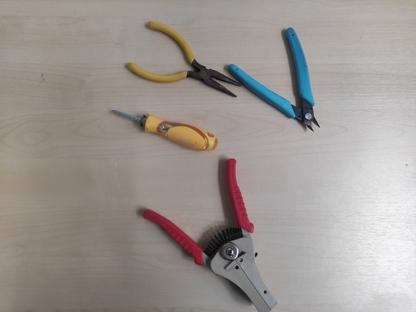Screwdriver: (109, 108, 221, 154)
